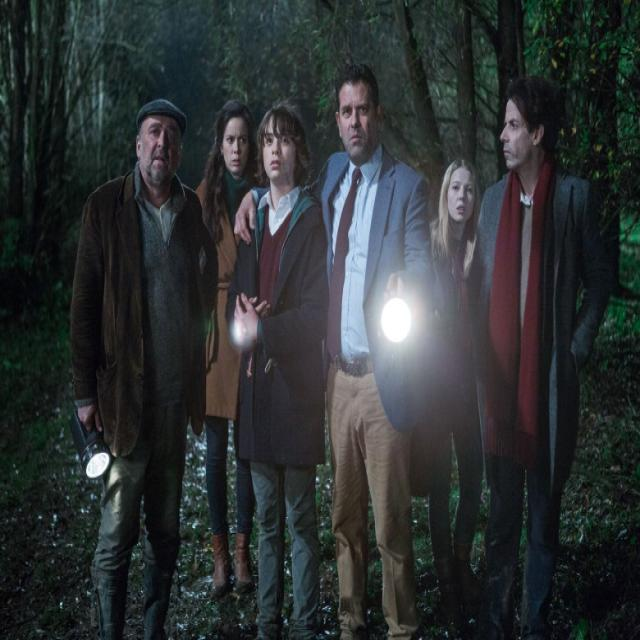body: (231, 60, 435, 639), (461, 71, 612, 639), (66, 95, 222, 639), (222, 103, 334, 639), (411, 155, 487, 624), (196, 98, 260, 592)
